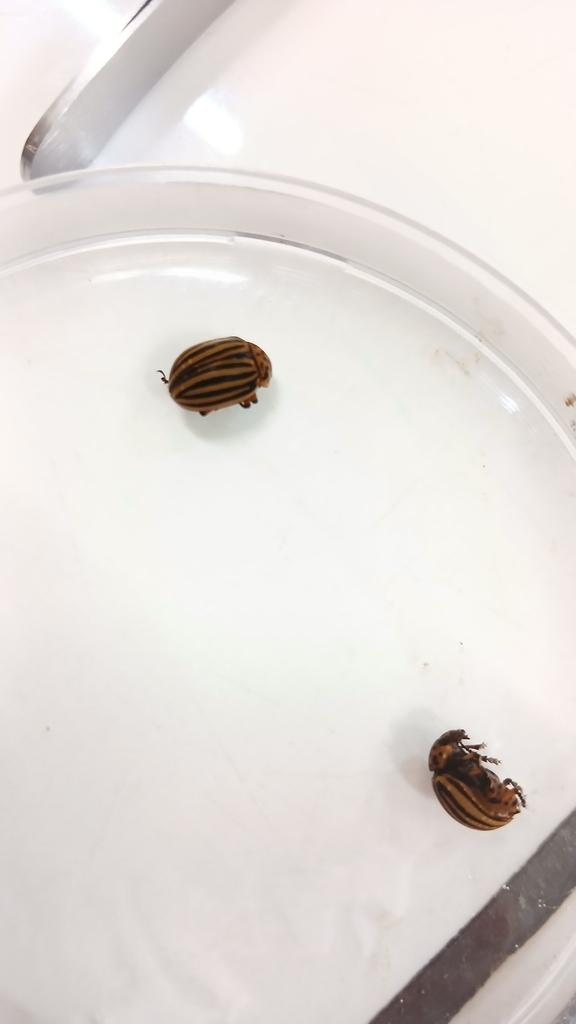potato_beetle: (399, 695, 560, 866), (136, 302, 307, 445)
